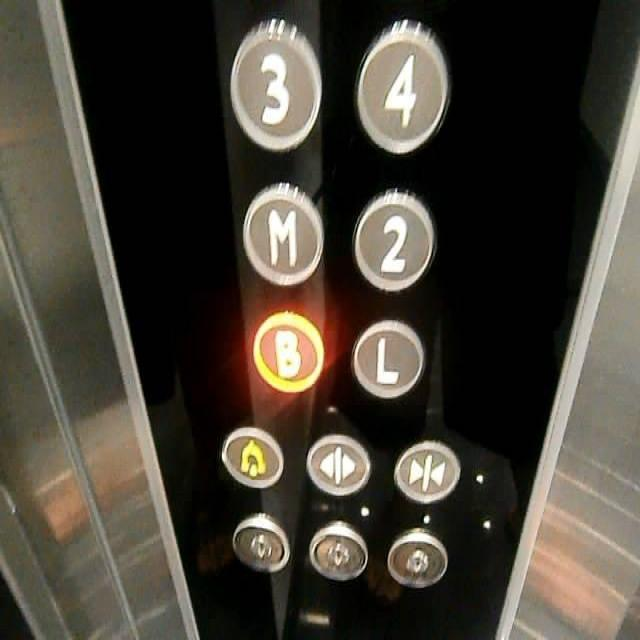2: (352, 185, 435, 294)
3: (226, 16, 321, 152)
4: (355, 20, 449, 156)
B: (249, 309, 325, 396)
L: (350, 319, 425, 396)
M: (240, 178, 325, 290)
alarm: (220, 426, 284, 494)
close: (390, 440, 461, 504)
keyhole: (305, 516, 367, 583), (386, 527, 447, 592), (230, 511, 291, 576)
open: (305, 433, 372, 498)
